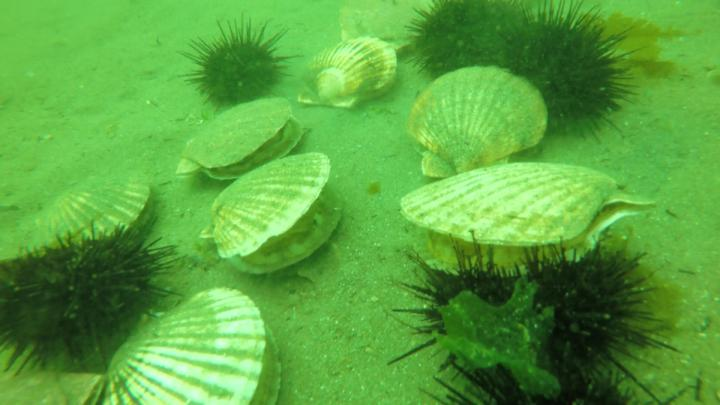echinus: (1, 234, 168, 371), (512, 231, 664, 371), (392, 235, 537, 373), (495, 1, 630, 136), (177, 14, 303, 106), (420, 354, 642, 405), (407, 1, 525, 82)
scallop: (395, 156, 656, 275), (100, 284, 285, 405), (202, 151, 345, 277), (404, 63, 551, 177), (1, 168, 161, 265), (174, 95, 304, 191), (298, 37, 400, 112), (335, 1, 431, 55)
